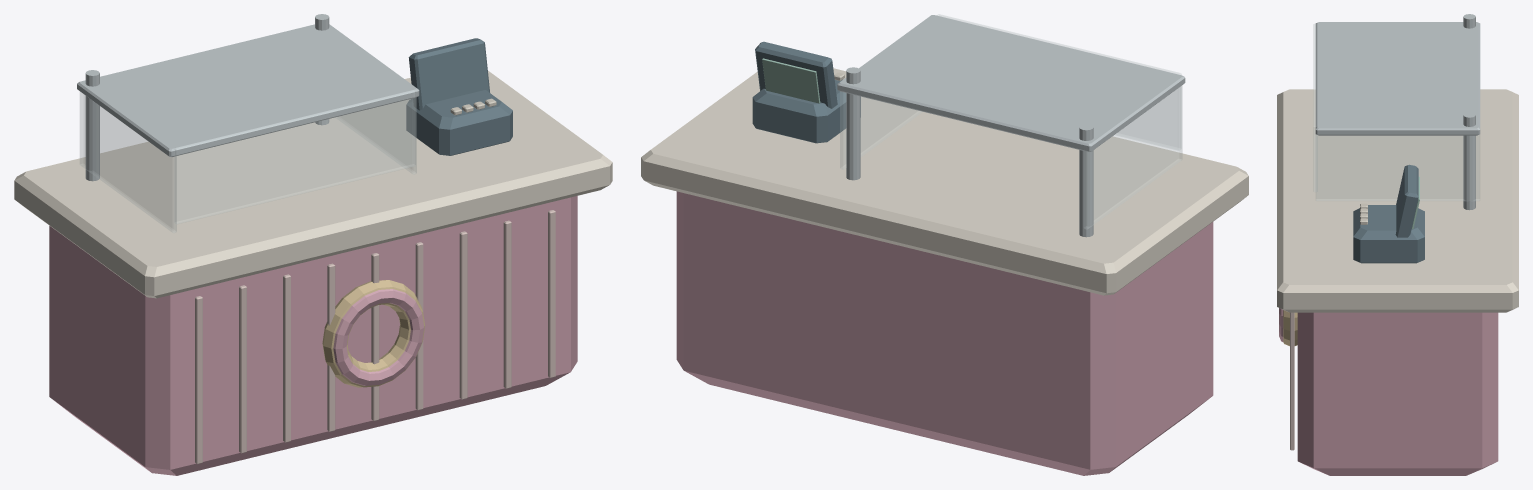
The model's file is bakery_counter.glb.
3 views of the same model, side by side, from view 1: azimuth 30°, elevation 25°; view 2: azimuth 150°, elevation 25°; view 3: azimuth 270°, elevation 25° (orthographic). The views are drawn at different scales.
Parts seen in each view (by area): view 1: bakery_counter; view 2: bakery_counter; view 3: bakery_counter.
Boxes of the visible parts, x1,y1,x2,y2 form: bakery_counter: (14, 14, 612, 475); bakery_counter: (641, 14, 1248, 475); bakery_counter: (1277, 14, 1518, 475).
Size of the model in its own units: 2.65 by 1.83 by 1.35.
